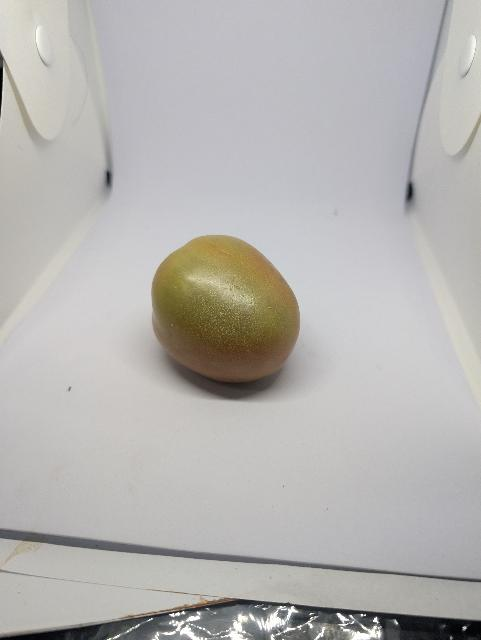breaker: (144, 231, 306, 383)
